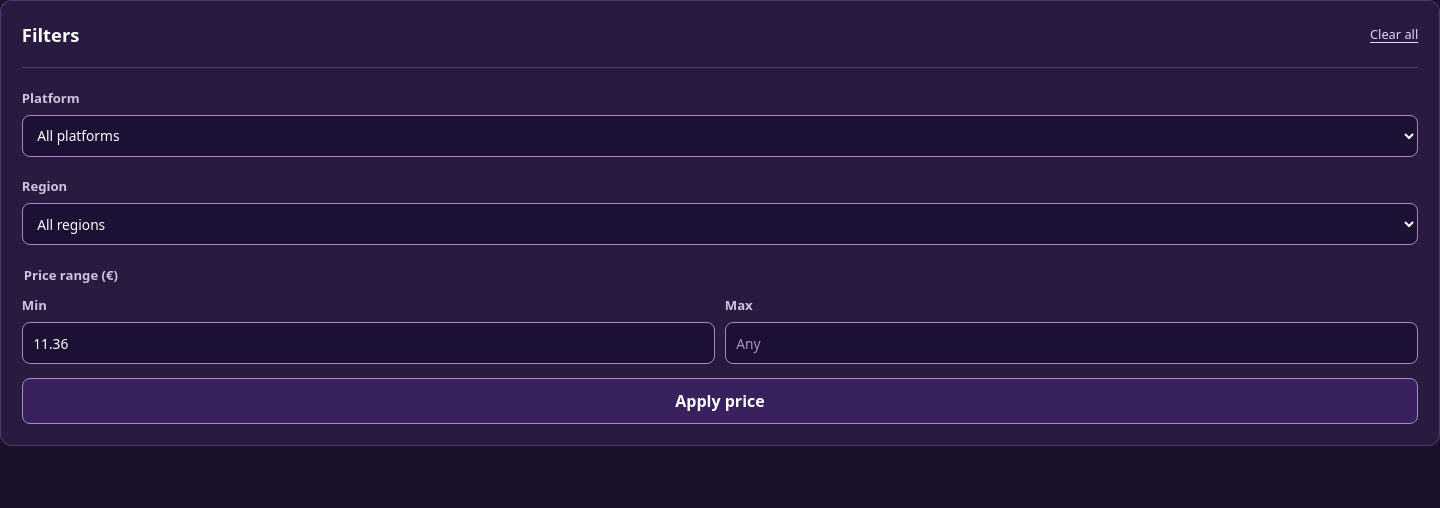
Test case: catalog price-filter drafts › clears validation on editing and skips no-op price submissions
Later steps or results of the test are not shown.
Click the button "Apply price". click: (720, 401)
box: [22,378,1418,424]
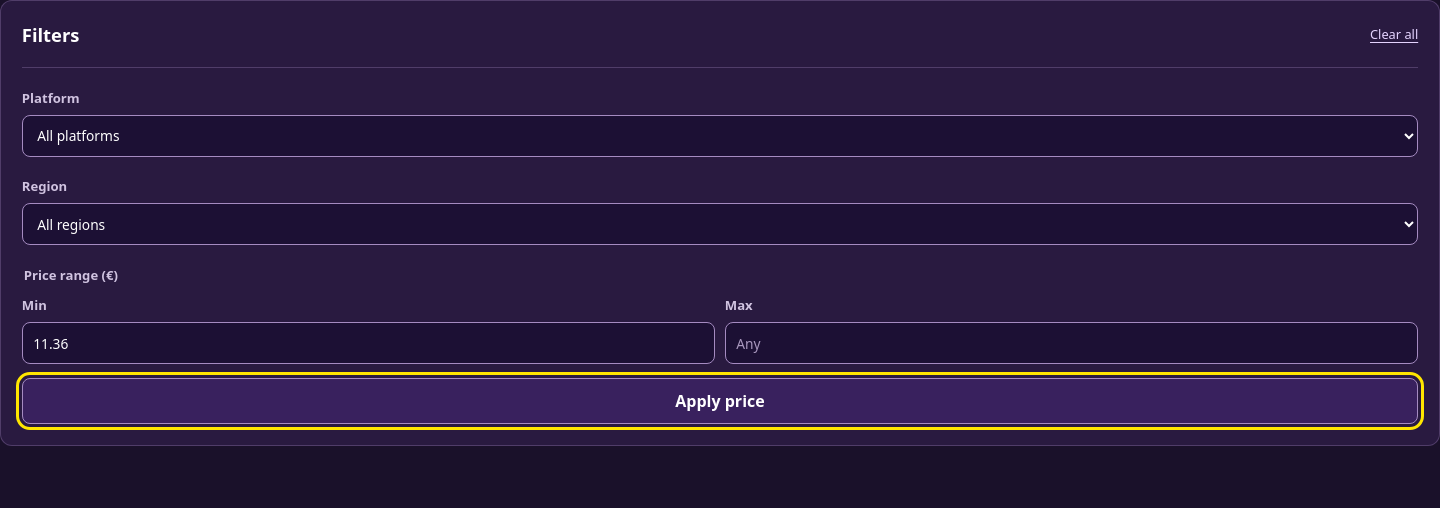
Type "10" into the field labelled "Max". click: (1072, 343)
box: [725,322,1418,364]
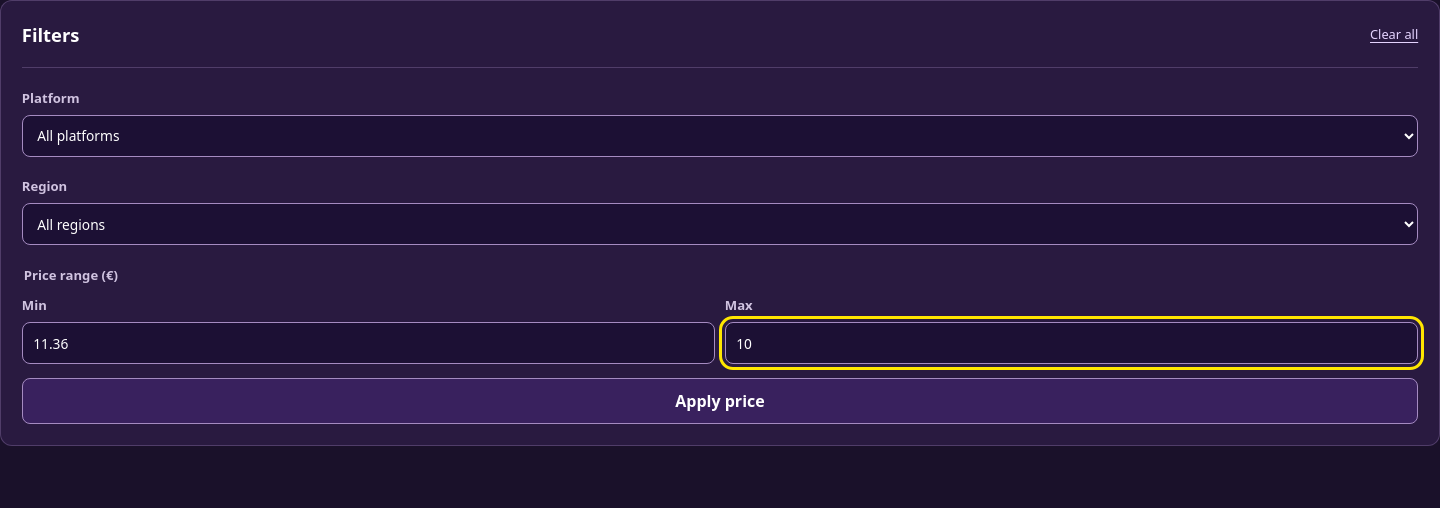
Click the button "Apply price". click: (720, 401)
box: [22,378,1418,424]
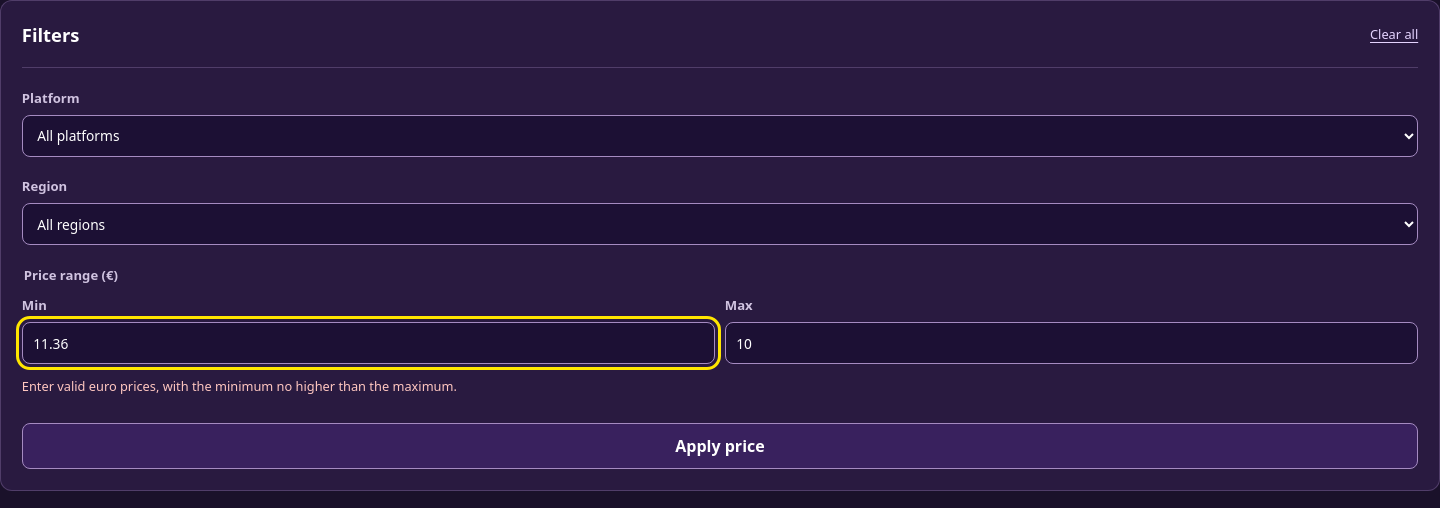
Check: the message shows "minimum no higher", box [22,377,457,395]
